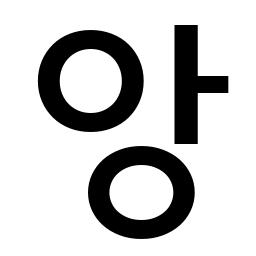Buri: (168, 16, 209, 44)
Gaji: (167, 68, 212, 102)
Sangtu: (52, 27, 127, 61), (112, 141, 169, 173)
